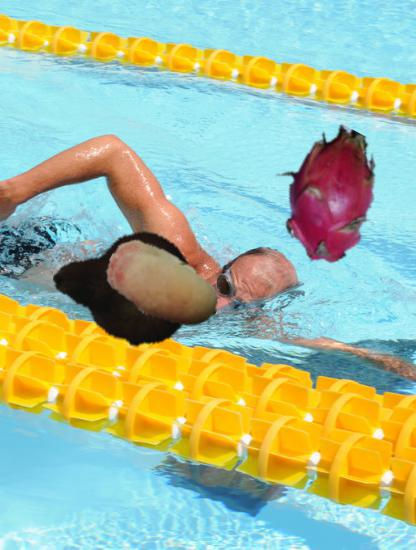Peach: (103, 227, 222, 346)
Pear: (53, 214, 197, 358)
Pitahaya: (258, 125, 395, 262)
